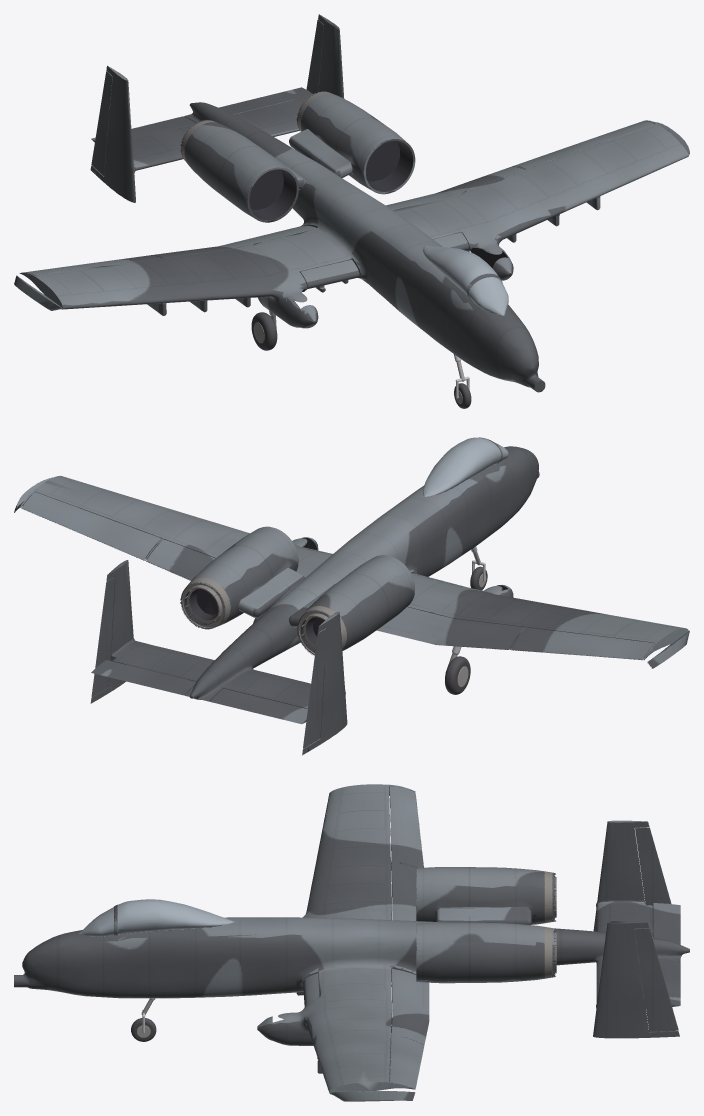
3 views of the same model, one above another, from view 1: azimuth 30°, elevation 25°; view 2: azimuth 150°, elevation 25°; view 3: azimuth 270°, elevation 25° (orthographic). The views are drawn at different scales.
Visible parts, largest first — view 1: airframe, fsim:flaps (×2), fsim:rudder (×2), fsim:aileron (×2), fsim:elevator (×2), fsim:lef@0,20, fsim:wheel:2:0.457; view 2: airframe, fsim:aileron (×2), fsim:flaps (×2), fsim:elevator (×2), fsim:rudder (×2), fsim:wheel:2:0.457; view 3: airframe, fsim:rudder (×2), fsim:flaps (×2), fsim:aileron (×2), fsim:elevator (×2).
Part boxes in pixels (x1=…): airframe: x1=14, y1=14, x2=689, y2=392; fsim:flaps (×2): x1=151, y1=167, x2=523, y2=258; fsim:rudder (×2): x1=91, y1=20, x2=323, y2=175; fsim:aileron (×2): x1=23, y1=121, x2=654, y2=275; fsim:elevator (×2): x1=91, y1=87, x2=312, y2=142; fsim:lef@0,20: x1=300, y1=259, x2=359, y2=289; fsim:wheel:2:0.457: x1=251, y1=312, x2=277, y2=350; airframe: x1=14, y1=437, x2=689, y2=755; fsim:aileron (×2): x1=21, y1=492, x2=654, y2=660; fsim:flaps (×2): x1=146, y1=539, x2=524, y2=649; fsim:elevator (×2): x1=91, y1=660, x2=307, y2=724; fsim:rudder (×2): x1=91, y1=576, x2=326, y2=748; fsim:wheel:2:0.457: x1=445, y1=656, x2=470, y2=694; airframe: x1=14, y1=784, x2=689, y2=1101; fsim:rudder (×2): x1=635, y1=827, x2=678, y2=1031; fsim:flaps (×2): x1=391, y1=862, x2=429, y2=1044; fsim:aileron (×2): x1=389, y1=786, x2=424, y2=1088; fsim:elevator (×2): x1=653, y1=903, x2=680, y2=1006.
Size of the model in its own units: 17.6 by 4.6 by 16.26.
7 materials, 1 textured.
